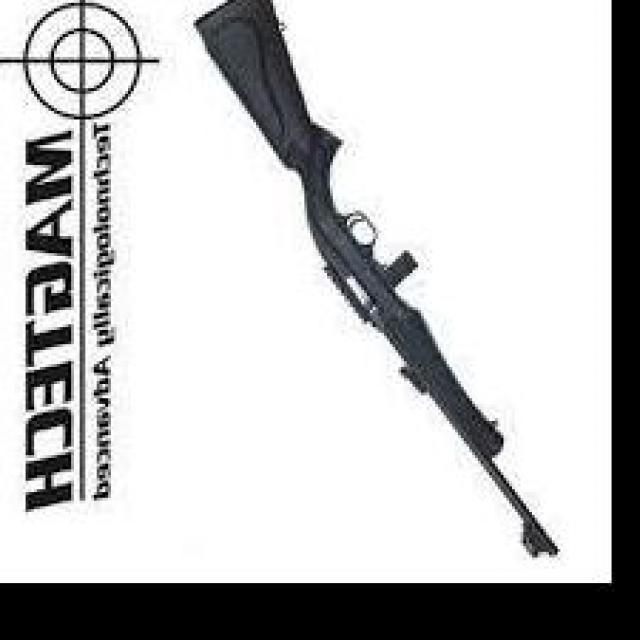weapon: (190, 0, 560, 563)
